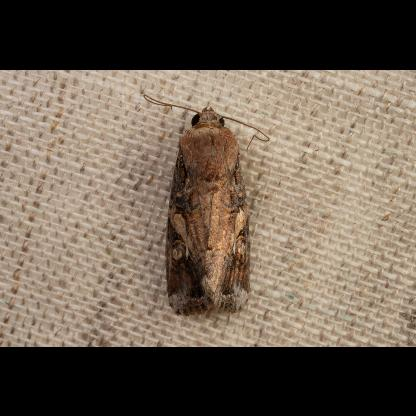Fall Armyworm Moth: (142, 90, 272, 317)
